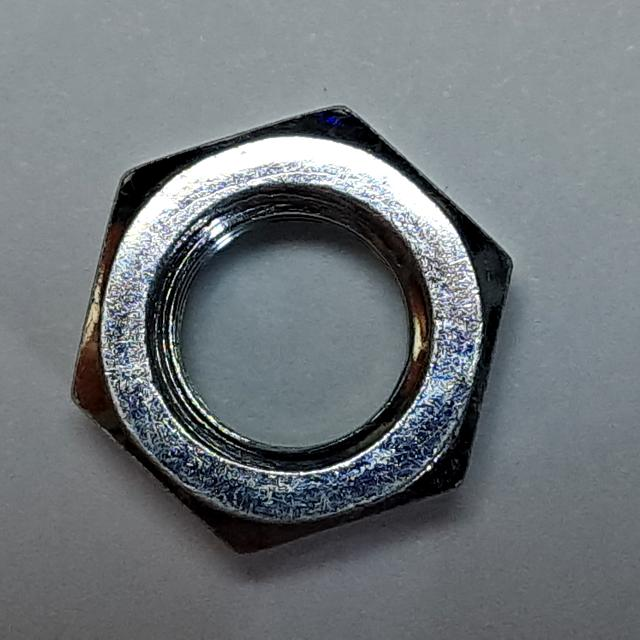Excellent: (60, 89, 546, 576)
